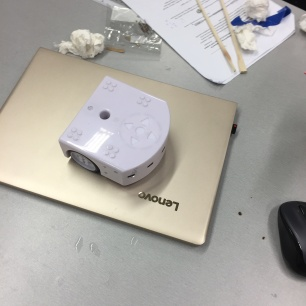thymio: (55, 71, 174, 191)
